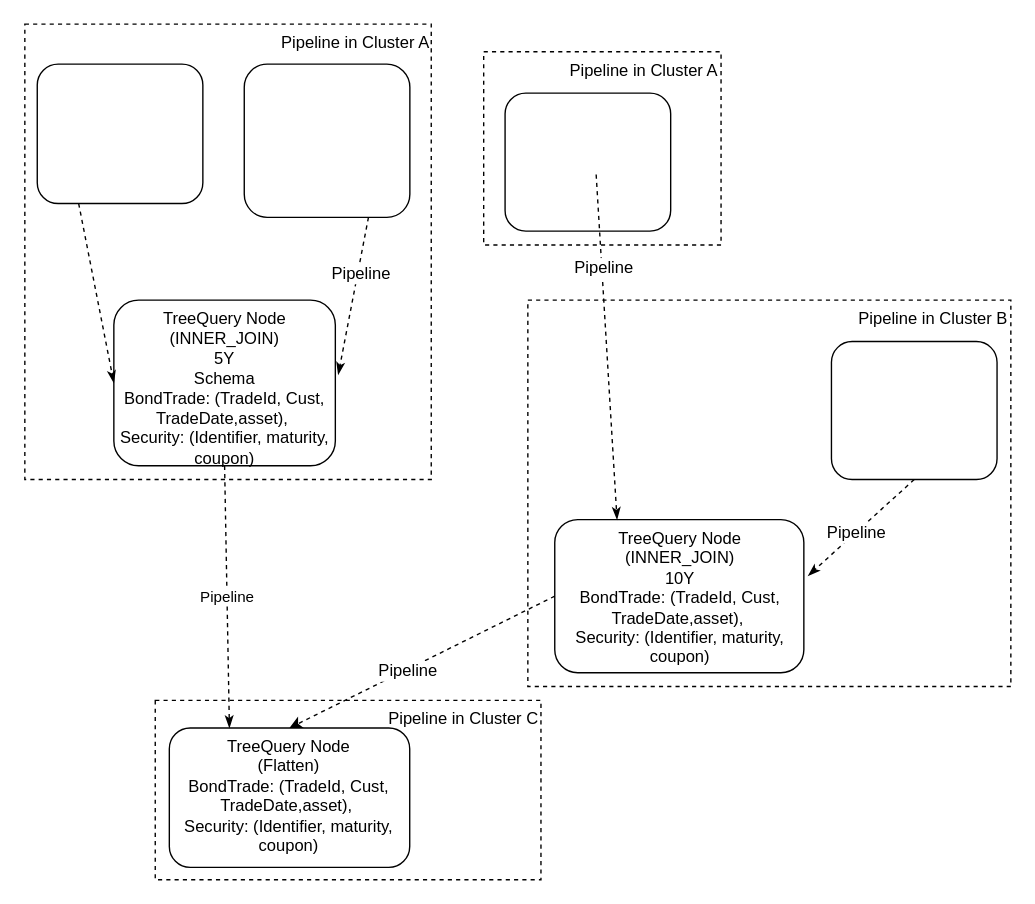
The diagram is 1035 pixels wide and 904 high, and some of its shapes have lost their labels. The centre of each missing label's shape, as x and y in pixels:
"TreeQuery Node (LOAD) Read Avro File 10Y Schema: TradeId, Cust, tradeDate, asset" goes at (x=587, y=161).
"TreeQuery Node (LOAD) Read Avro File 5Y Schema: TradeId, Cust, tradeDate, asset" goes at (x=119, y=133).
"TreeQuery Node (Query) Mongo Query 10Y Schema: Identifier, maturity, coupon" goes at (x=913, y=410).
"TreeQuery Node (Query) Mongo Query 5Y Schema: Identifier, maturity, coupon" goes at (x=326, y=140).
